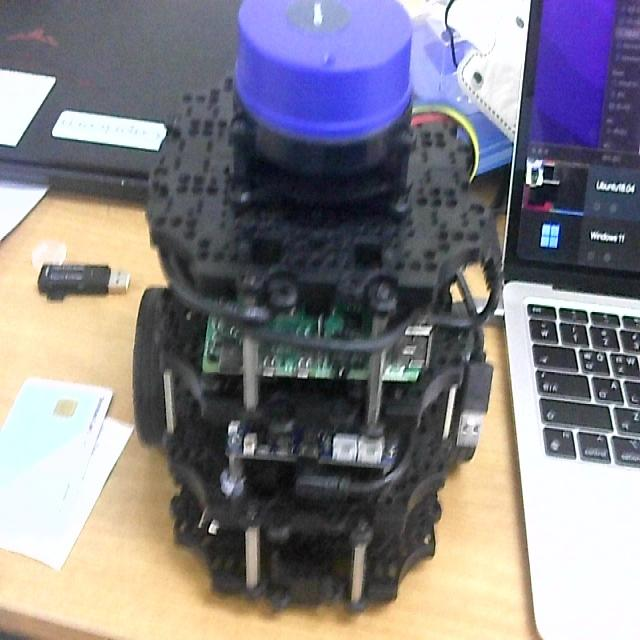turtle: (129, 0, 504, 620)
